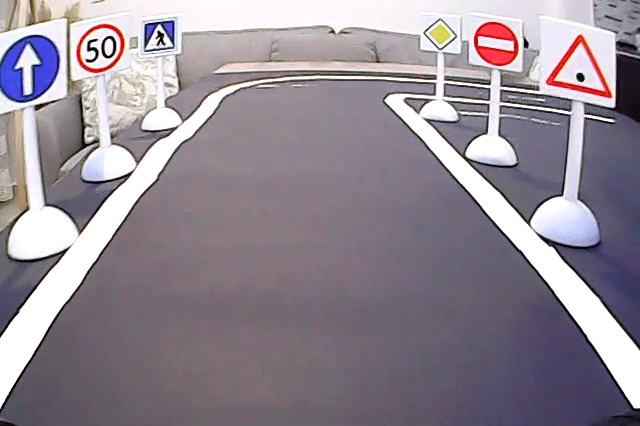do not enter: (473, 14, 521, 68)
green light: (545, 18, 616, 101)
pedestrian crossing: (143, 20, 180, 53)
speed limit 50: (73, 22, 130, 76)
